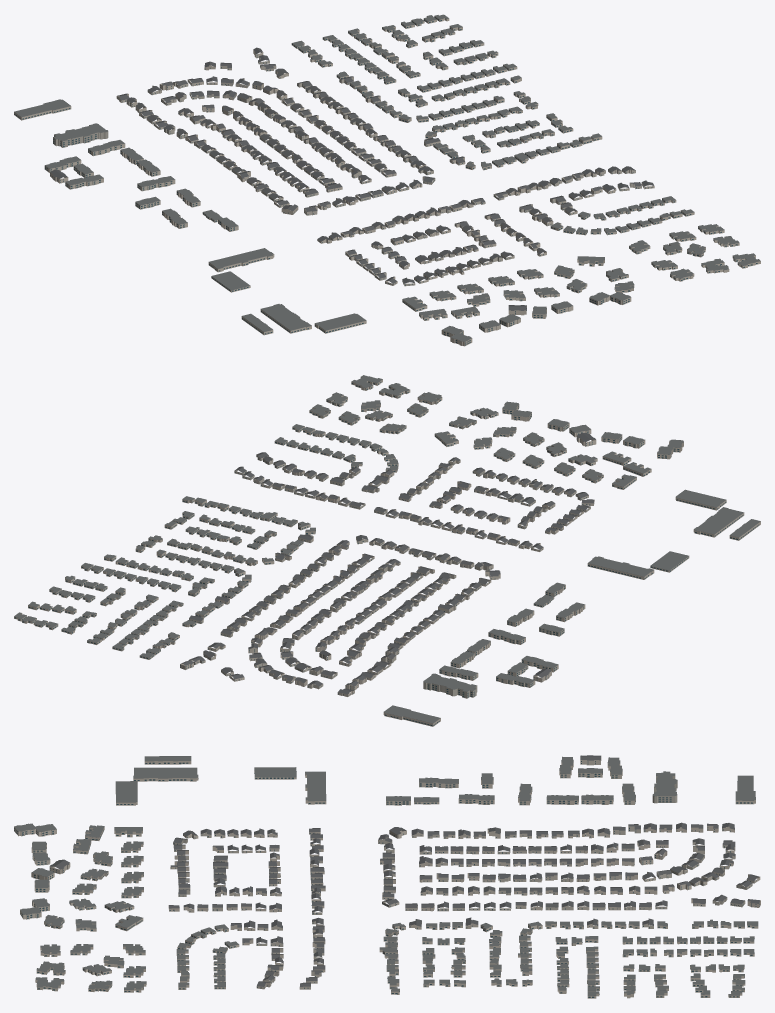
3 renders of one model, top to bottom at view 1: azimuth 30°, elevation 25°; view 2: azimuth 150°, elevation 25°; view 3: azimuth 270°, elevation 25°, orthographic. The views are drawn at different scales.
Parts seen in each view (by area): view 1: Buildings (4, 0) Masonry brick, Buildings (4, 0) Roof membrane, Buildings (4, 0) Roof shingles, Buildings (4, 0) Architectural tinted glass, Buildings (4, 0) House siding, Buildings (4, 0) Metal coping; view 2: Buildings (4, 0) Masonry brick, Buildings (4, 0) Roof membrane, Buildings (4, 0) Roof shingles, Buildings (4, 0) Architectural tinted glass, Buildings (4, 0) House siding, Buildings (4, 0) Metal coping; view 3: Buildings (4, 0) Roof membrane, Buildings (4, 0) Masonry brick, Buildings (4, 0) Roof shingles, Buildings (4, 0) House siding, Buildings (4, 0) Architectural tinted glass, Buildings (4, 0) Metal coping.
Part boxes in pixels (x1,y1,x2,y2): Buildings (4, 0) Masonry brick: [14, 16, 760, 346]; Buildings (4, 0) Roof membrane: [14, 14, 760, 341]; Buildings (4, 0) Roof shingles: [50, 47, 654, 310]; Buildings (4, 0) Architectural tinted glass: [14, 17, 757, 345]; Buildings (4, 0) House siding: [147, 57, 641, 286]; Buildings (4, 0) Metal coping: [14, 14, 759, 341]; Buildings (4, 0) Masonry brick: [14, 377, 760, 726]; Buildings (4, 0) Roof membrane: [14, 375, 760, 723]; Buildings (4, 0) Roof shingles: [181, 433, 595, 694]; Buildings (4, 0) Architectural tinted glass: [14, 382, 759, 725]; Buildings (4, 0) House siding: [189, 458, 590, 689]; Buildings (4, 0) Metal coping: [17, 375, 760, 720]; Buildings (4, 0) Roof membrane: [14, 756, 758, 995]; Buildings (4, 0) Masonry brick: [14, 756, 760, 998]; Buildings (4, 0) Roof shingles: [50, 755, 759, 986]; Buildings (4, 0) House siding: [173, 824, 752, 989]; Buildings (4, 0) Architectural tinted glass: [14, 761, 759, 997]; Buildings (4, 0) Metal coping: [15, 756, 757, 995].
Size of the model in its own units: 775 by 12.01 by 1024.
